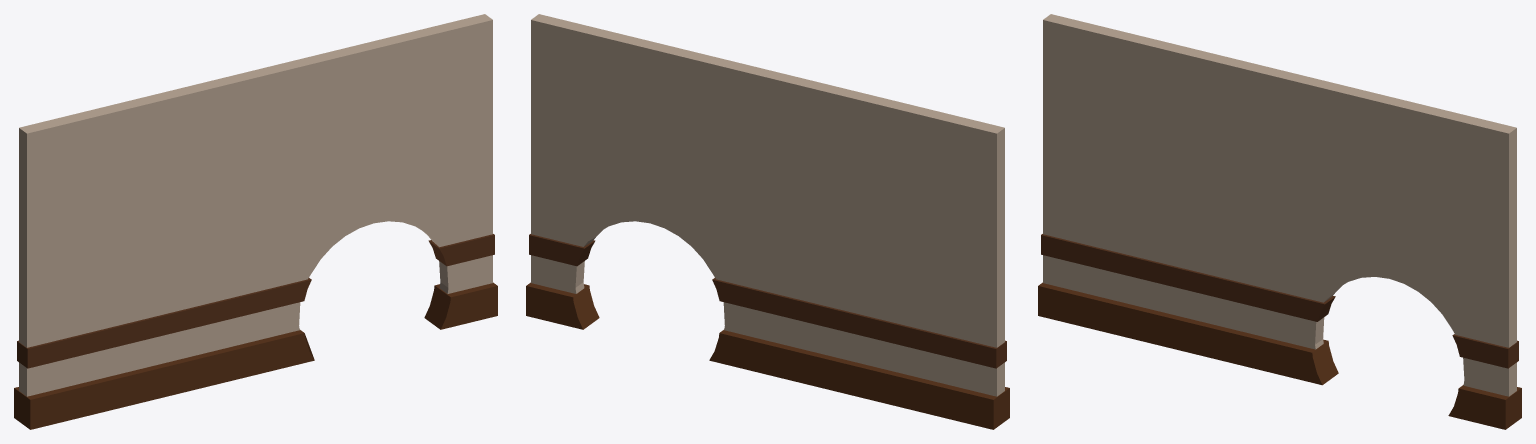
Rendered from Mand mit loch export2.fbx.
3 renders of one model, left to right at view 1: azimuth 30°, elevation 25°; view 2: azimuth 150°, elevation 25°; view 3: azimuth 330°, elevation 25°, orthographic.
Parts seen in each view (by area): view 1: Cube.003; view 2: Cube.003; view 3: Cube.003.
Part boxes in pixels (x1,y1,x2,y2): Cube.003: [14, 14, 497, 429]; Cube.003: [526, 14, 1009, 429]; Cube.003: [1038, 14, 1521, 429].
Bounding box in the file's own units: 501 × 300 × 30.29.
